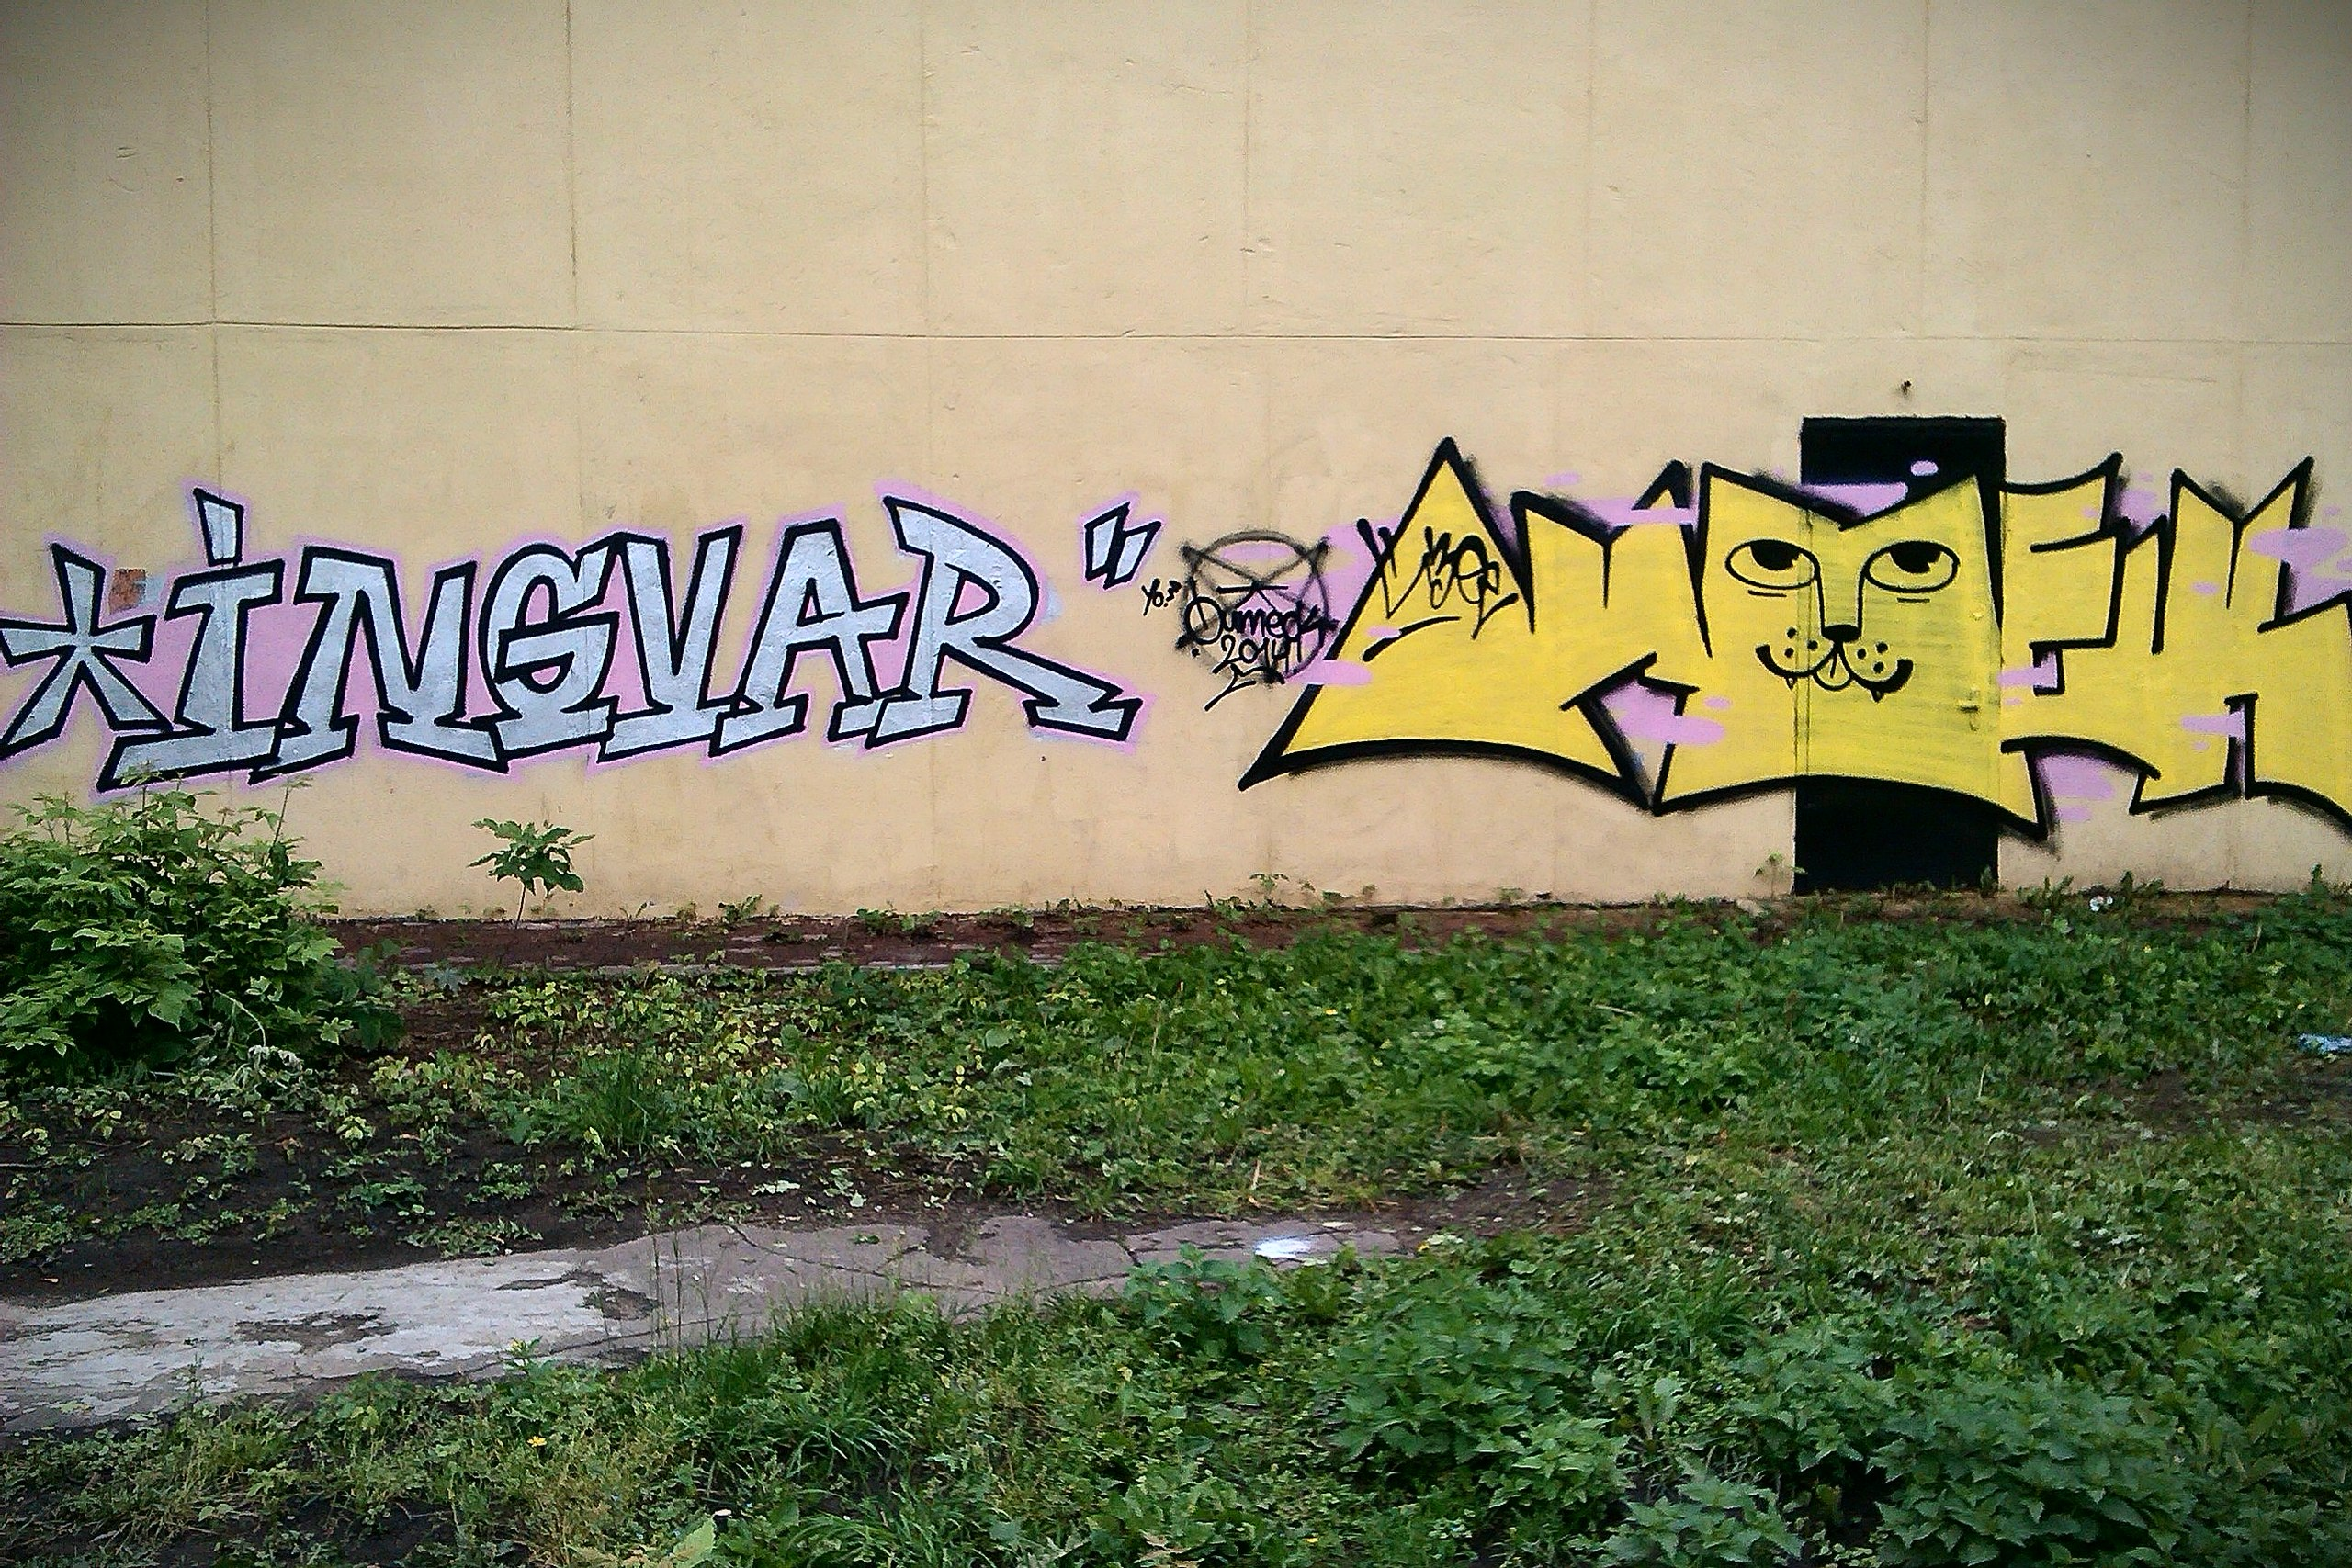graffity: (1248, 401, 2347, 920), (2, 464, 1165, 822), (1132, 522, 1353, 689)
